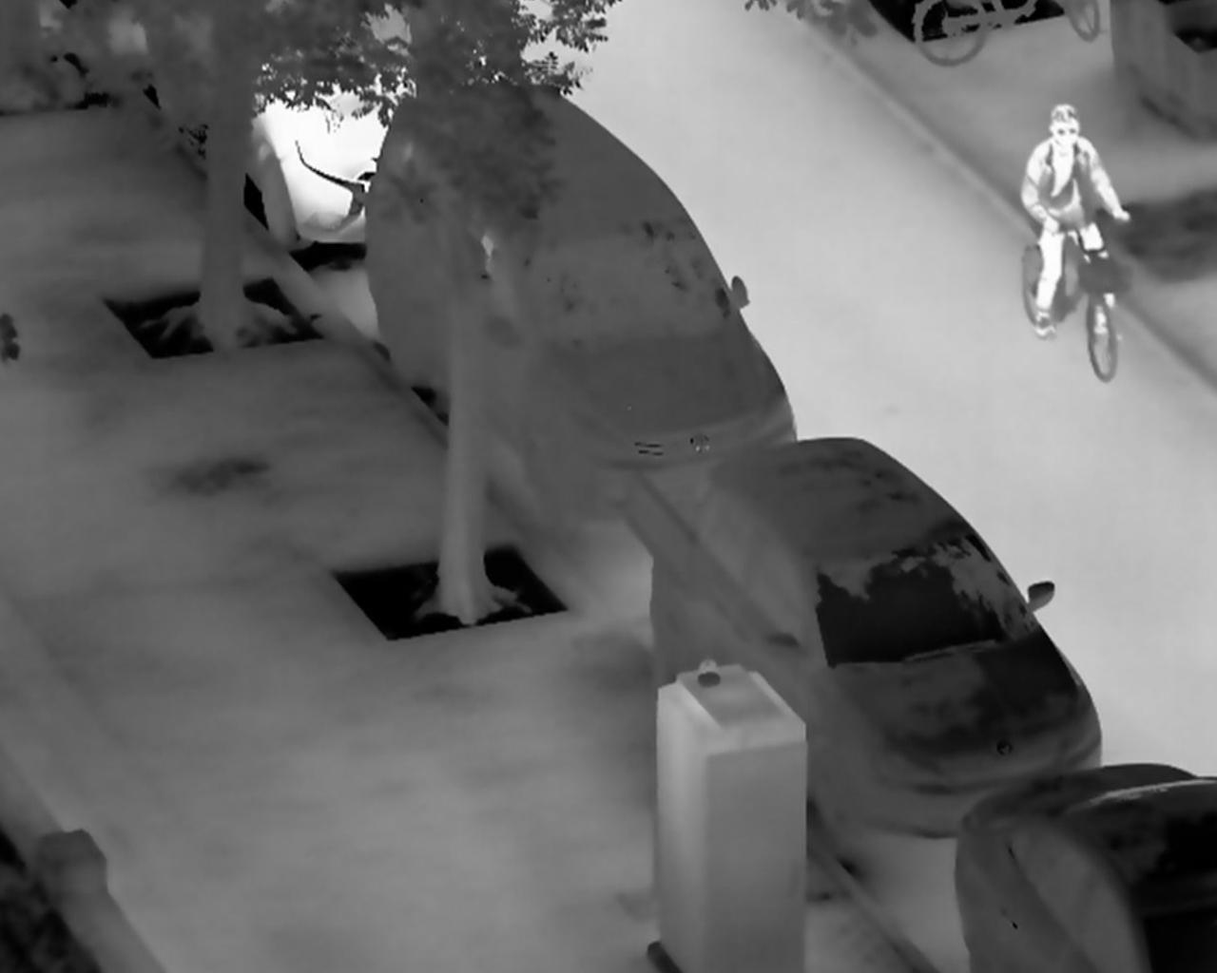person: (1018, 102, 1131, 343)
